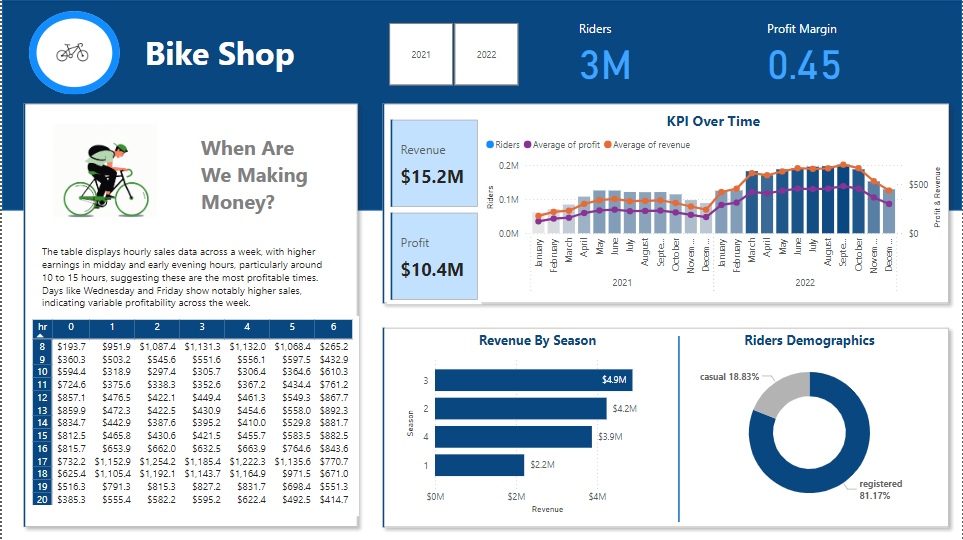

Layout of this report page (visuals, bound fields, positions):
{"tool":"powerbi","page":{"name":"Bike Dashboard","canvas":[1280,720],"ordinal":0},"visuals":[{"type":"shape","box":[0,0,1280,280.5],"z":0},{"type":"cardVisual","fields":{"Data":["Min(Query1.riders)"]},"box":[11.5,121.4,479.2,599],"z":1000},{"type":"cardVisual","fields":{"Data":["Min(Query1.riders)"]},"box":[490.7,121.4,789.3,300.3],"z":2000},{"type":"cardVisual","fields":{"Data":["Min(Query1.riders)"]},"box":[490.7,420.1,789.3,300.3],"z":3000},{"type":"cardVisual","fields":{"Data":["Min(Query1.riders)"]},"box":[47,147.9,185.2,147.9],"z":4000},{"type":"pivotTable","fields":{"Values":["Avg(Query1.revenue)"],"Columns":["Query1.weekday"],"Rows":["Query1.hr"]},"box":[36.1,421.7,439.8,267.5],"z":5000},{"type":"textbox","box":[259.9,171.4,175.6,124.4],"z":6000},{"type":"textbox","box":[47.6,321.6,415.2,98.5],"z":7000},{"type":"lineClusteredColumnComboChart","title":"KPI Over Time","fields":{"Category":["Query1.dteday.Variation.Date Hierarchy.Year","Query1.dteday.Variation.Date Hierarchy.Month"],"Y":["Sum(Query1.riders)"],"Y2":["Avg(Query1.profit)","Avg(Query1.revenue)"]},"box":[640,147.7,617,251.1],"z":8000},{"type":"clusteredBarChart","title":"Revenue By Season","fields":{"Y":["Sum(Query1.revenue)"],"Category":["Query1.season"]},"box":[533.3,441.4,361,247.8],"z":8001},{"type":"donutChart","title":"Riders Demographics","fields":{"Category":["Query1.rider_type"],"Y":["Sum(Query1.riders)"]},"box":[896,441.4,361,247.8],"z":8002},{"type":"shape","box":[896,448,13.1,247.8],"z":8003},{"type":"cardVisual","title":"KPI Over Time","fields":{"Data":["Sum(Query1.revenue)","Sum(Query1.profit)"]},"box":[513.6,154.3,126.4,251.1],"z":8004},{"type":"cardVisual","fields":{"Data":["Sum(Query1.riders)","Query1.Profit Margin"]},"box":[751.5,9.6,505.1,123.9],"z":8005},{"type":"textbox","box":[185.8,35.8,228.5,70.2],"z":8006},{"type":"shape","box":[35.8,15.1,121.1,111.5],"z":8007},{"type":"cardVisual","fields":{"Data":["Sum(Query1.riders)"]},"box":[35.8,9.6,121.1,123.9],"z":8008},{"type":"slicer","fields":{"Values":["Query1.Years"]},"box":[490,22,224.3,99.1],"z":8009}]}

Visuals, with their boxes in screenshot pixels (x1, y1, x2, y2), scaled from the page's 1280x720 canvas onto the 963x540 screenshot:
shape: bbox=[0, 0, 962, 210]
cardVisual - Min(Query1.riders): bbox=[9, 91, 369, 539]
cardVisual - Min(Query1.riders): bbox=[369, 91, 962, 316]
cardVisual - Min(Query1.riders): bbox=[369, 315, 962, 539]
cardVisual - Min(Query1.riders): bbox=[35, 111, 175, 222]
pivotTable - Avg(Query1.revenue) x Query1.weekday: bbox=[27, 316, 358, 517]
textbox: bbox=[196, 129, 328, 222]
textbox: bbox=[36, 241, 348, 315]
"KPI Over Time" lineClusteredColumnComboChart: bbox=[482, 111, 946, 299]
"Revenue By Season" clusteredBarChart: bbox=[401, 331, 673, 517]
"Riders Demographics" donutChart: bbox=[674, 331, 946, 517]
shape: bbox=[674, 336, 684, 522]
"KPI Over Time" cardVisual: bbox=[386, 116, 482, 304]
cardVisual - Sum(Query1.riders) x Query1.Profit Margin: bbox=[565, 7, 945, 100]
textbox: bbox=[140, 27, 312, 80]
shape: bbox=[27, 11, 118, 95]
cardVisual - Sum(Query1.riders): bbox=[27, 7, 118, 100]
slicer - Query1.Years: bbox=[369, 16, 537, 91]
